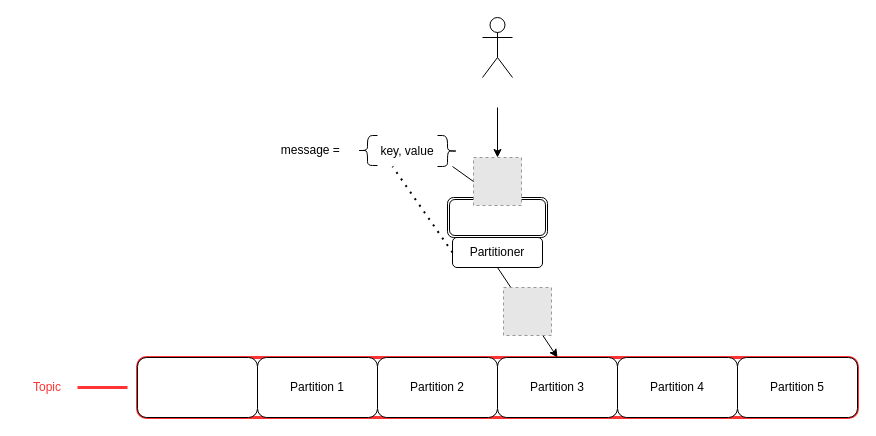
Image size: 876x436. Some labels were removed from this diagram. Grey dashed boxes stand in for pictures. The shapes that lost their labels are listed below. From the top down, each one's centre as x and y in pixels, then its label:
point (497, 47): Producer
point (497, 217): kafka client
point (197, 387): Partition 0
